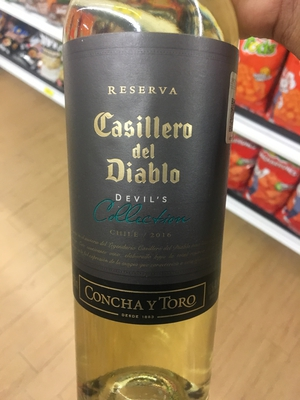casillero del diablo devils collection verde: (51, 8, 248, 387)
